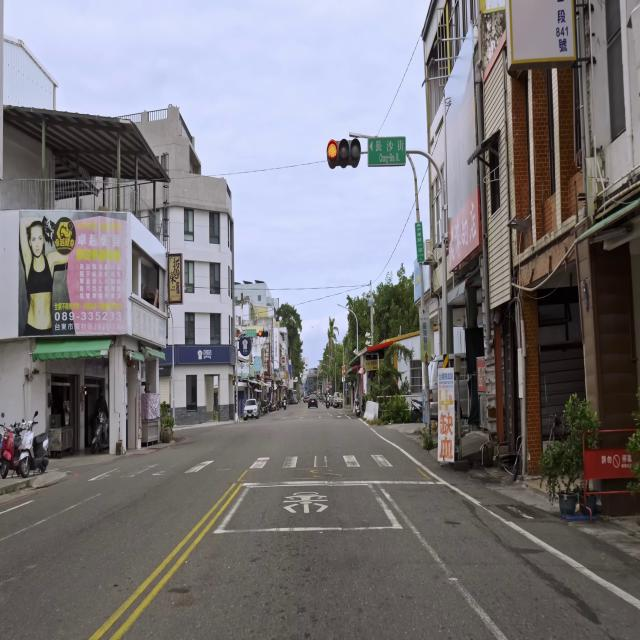red light: (326, 139, 361, 162), (258, 330, 268, 338)
